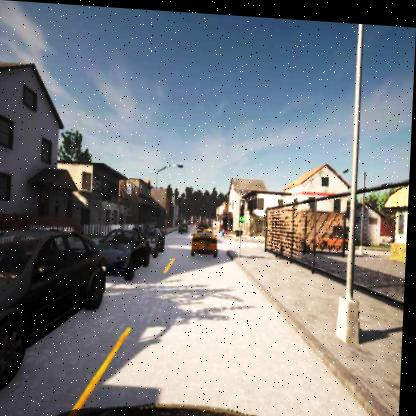vehicle: (0, 228, 107, 335), (95, 224, 151, 276), (139, 222, 169, 255), (192, 224, 221, 257)
